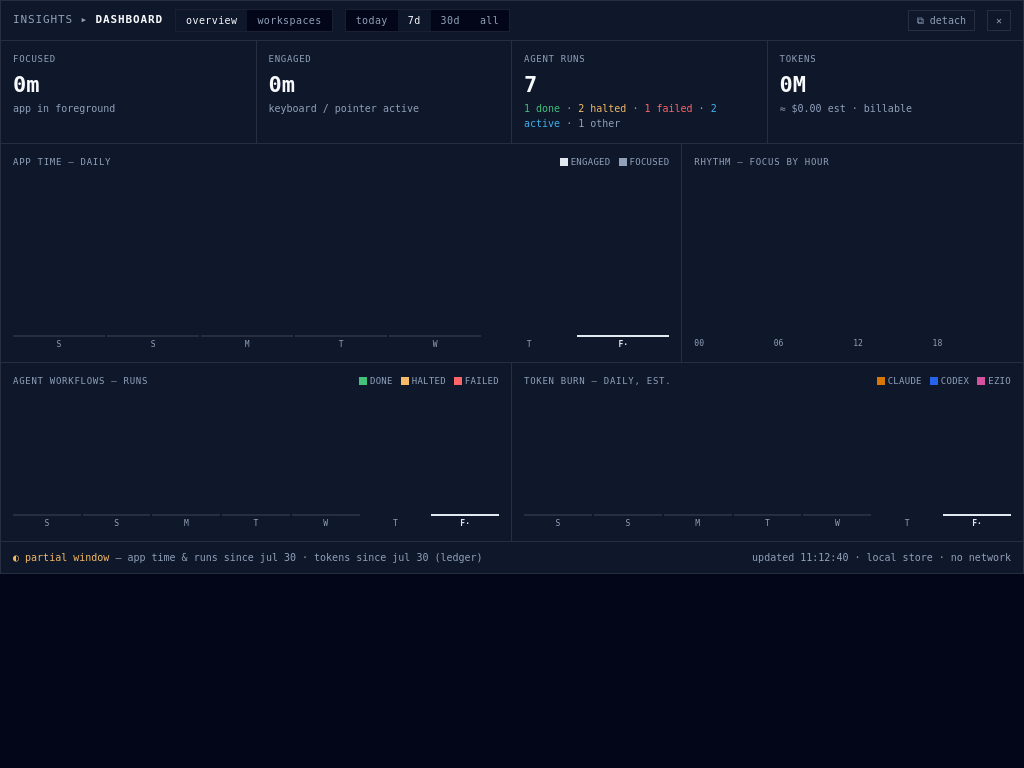
Test: InsightsDashboard › (h, rendered) tiles AND table render all five run classes and agree exactly
This screenshot has width=1024, height=768.
Expected: the text "7" is shown, [524, 72, 537, 96]
Expected: the element with test id "tile-runs" shows "1 done · 2 halted · 1 failed · 2 active · 1 other", [512, 41, 768, 143]
Click the button "workspaces" at (290, 20), box [247, 10, 332, 31]
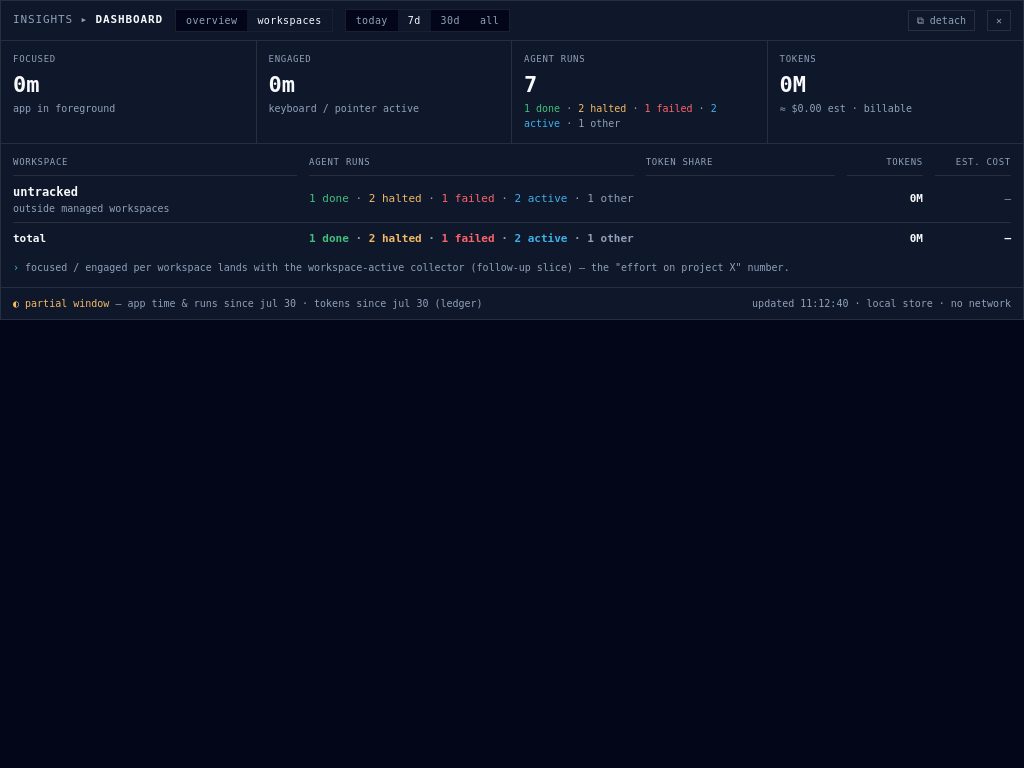
Result: the element with test id "ws-totals" shows "1 done · 2 halted · 1 failed · 2 active · 1 other" at [13, 222, 1011, 248]
